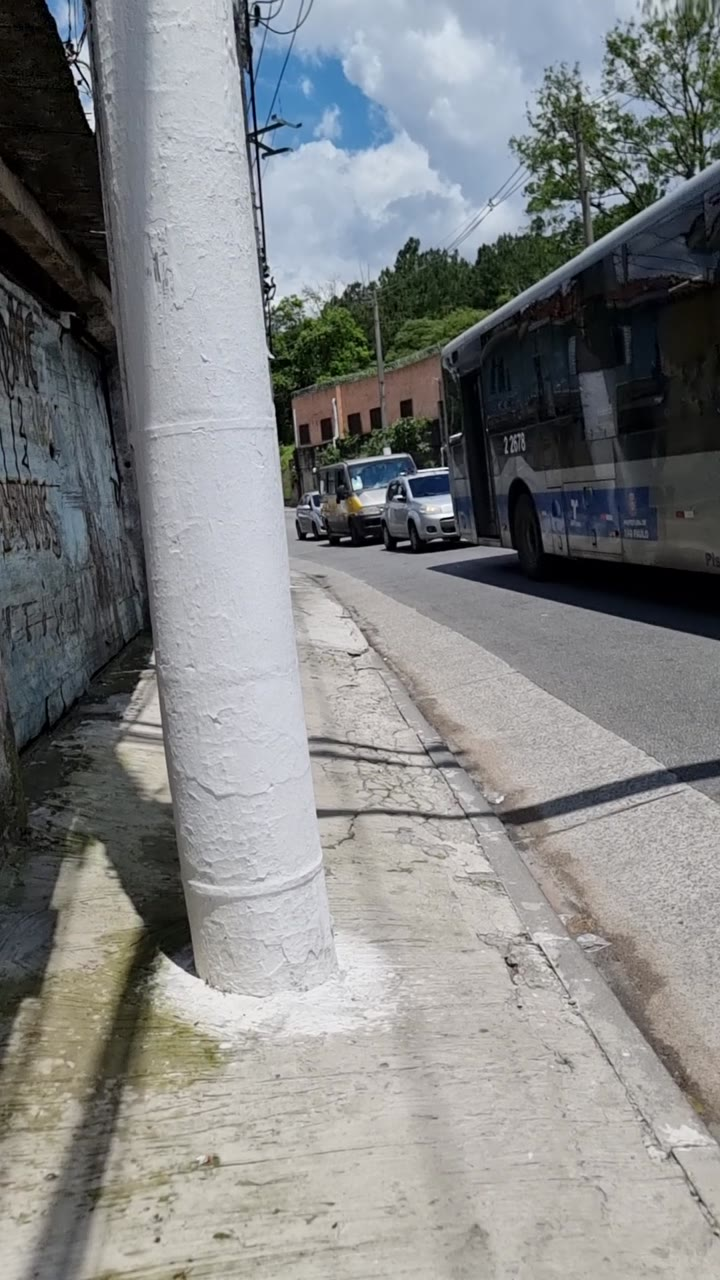obstaculo: (94, 0, 346, 1037)
